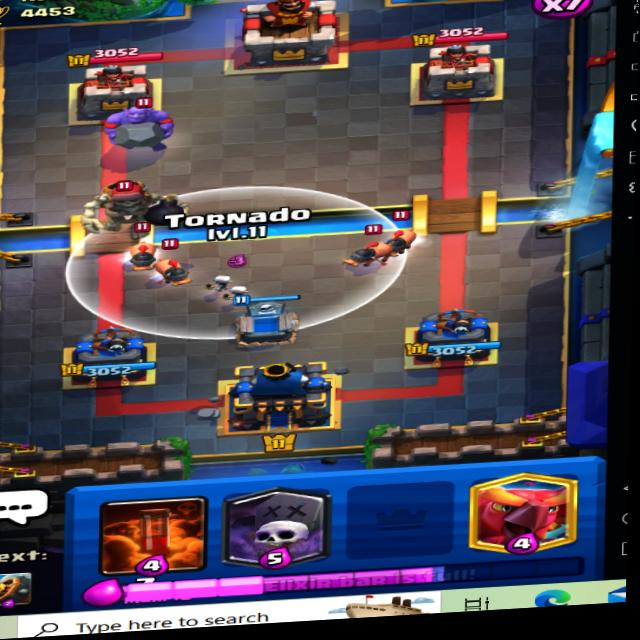bowler: (103, 91, 180, 156)
giant-skeleton: (76, 177, 189, 237)
royal-hogs: (372, 212, 434, 255), (147, 240, 195, 285), (341, 235, 393, 271), (123, 230, 160, 276)
